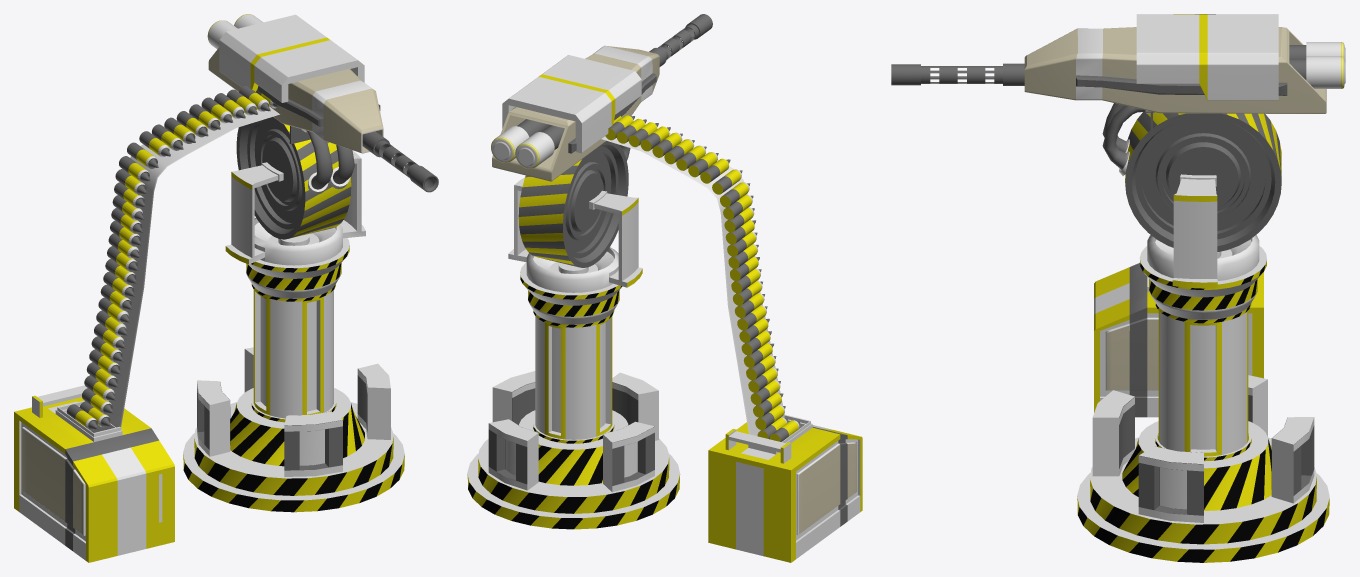
The model's file is turret.fbx.
3 views of the same model, side by side, from view 1: azimuth 30°, elevation 25°; view 2: azimuth 150°, elevation 25°; view 3: azimuth 270°, elevation 25° (orthographic). The views are drawn at different scales.
Visible parts, largest first — view 1: base, bullet_conatainer, bullets, gun_wheel, base_stand, gun_cover, gun_body, gun, gun_back; view 2: base, bullet_conatainer, bullets, base_stand, gun_wheel, gun_cover, gun_body, gun_back, gun; view 3: base, gun_wheel, gun_body, base_stand, gun_cover, bullet_conatainer, gun, gun_back.
Part boxes in pixels (box(x1,y1,x2,y2)): base: box(183, 150, 404, 512); bullet_conatainer: box(14, 106, 279, 562); bullets: box(79, 86, 279, 427); gun_wheel: box(236, 117, 354, 239); base_stand: box(197, 347, 390, 476); gun_cover: box(219, 14, 364, 102); gun_body: box(208, 47, 383, 153); gun: box(362, 131, 438, 192); gun_back: box(207, 14, 263, 49); base: box(467, 177, 680, 529); bullet_conatainer: box(601, 133, 862, 562); bullets: box(605, 115, 787, 439); base_stand: box(488, 371, 658, 492); gun_wheel: box(518, 141, 630, 267); gun_cover: box(502, 55, 641, 153); gun_body: box(492, 45, 659, 181); gun_back: box(491, 119, 564, 168); gun: box(649, 14, 712, 66); base: box(1077, 174, 1329, 562); gun_wheel: box(1102, 103, 1281, 252); gun_body: box(1024, 27, 1326, 113); base_stand: box(1092, 375, 1314, 522); gun_cover: box(1136, 14, 1278, 100); bullet_conatainer: box(1094, 263, 1263, 417); gun: box(891, 63, 1024, 85); gun_back: box(1289, 42, 1345, 88).
Size of the model in its own units: 8.11 by 9.28 by 8.02.
